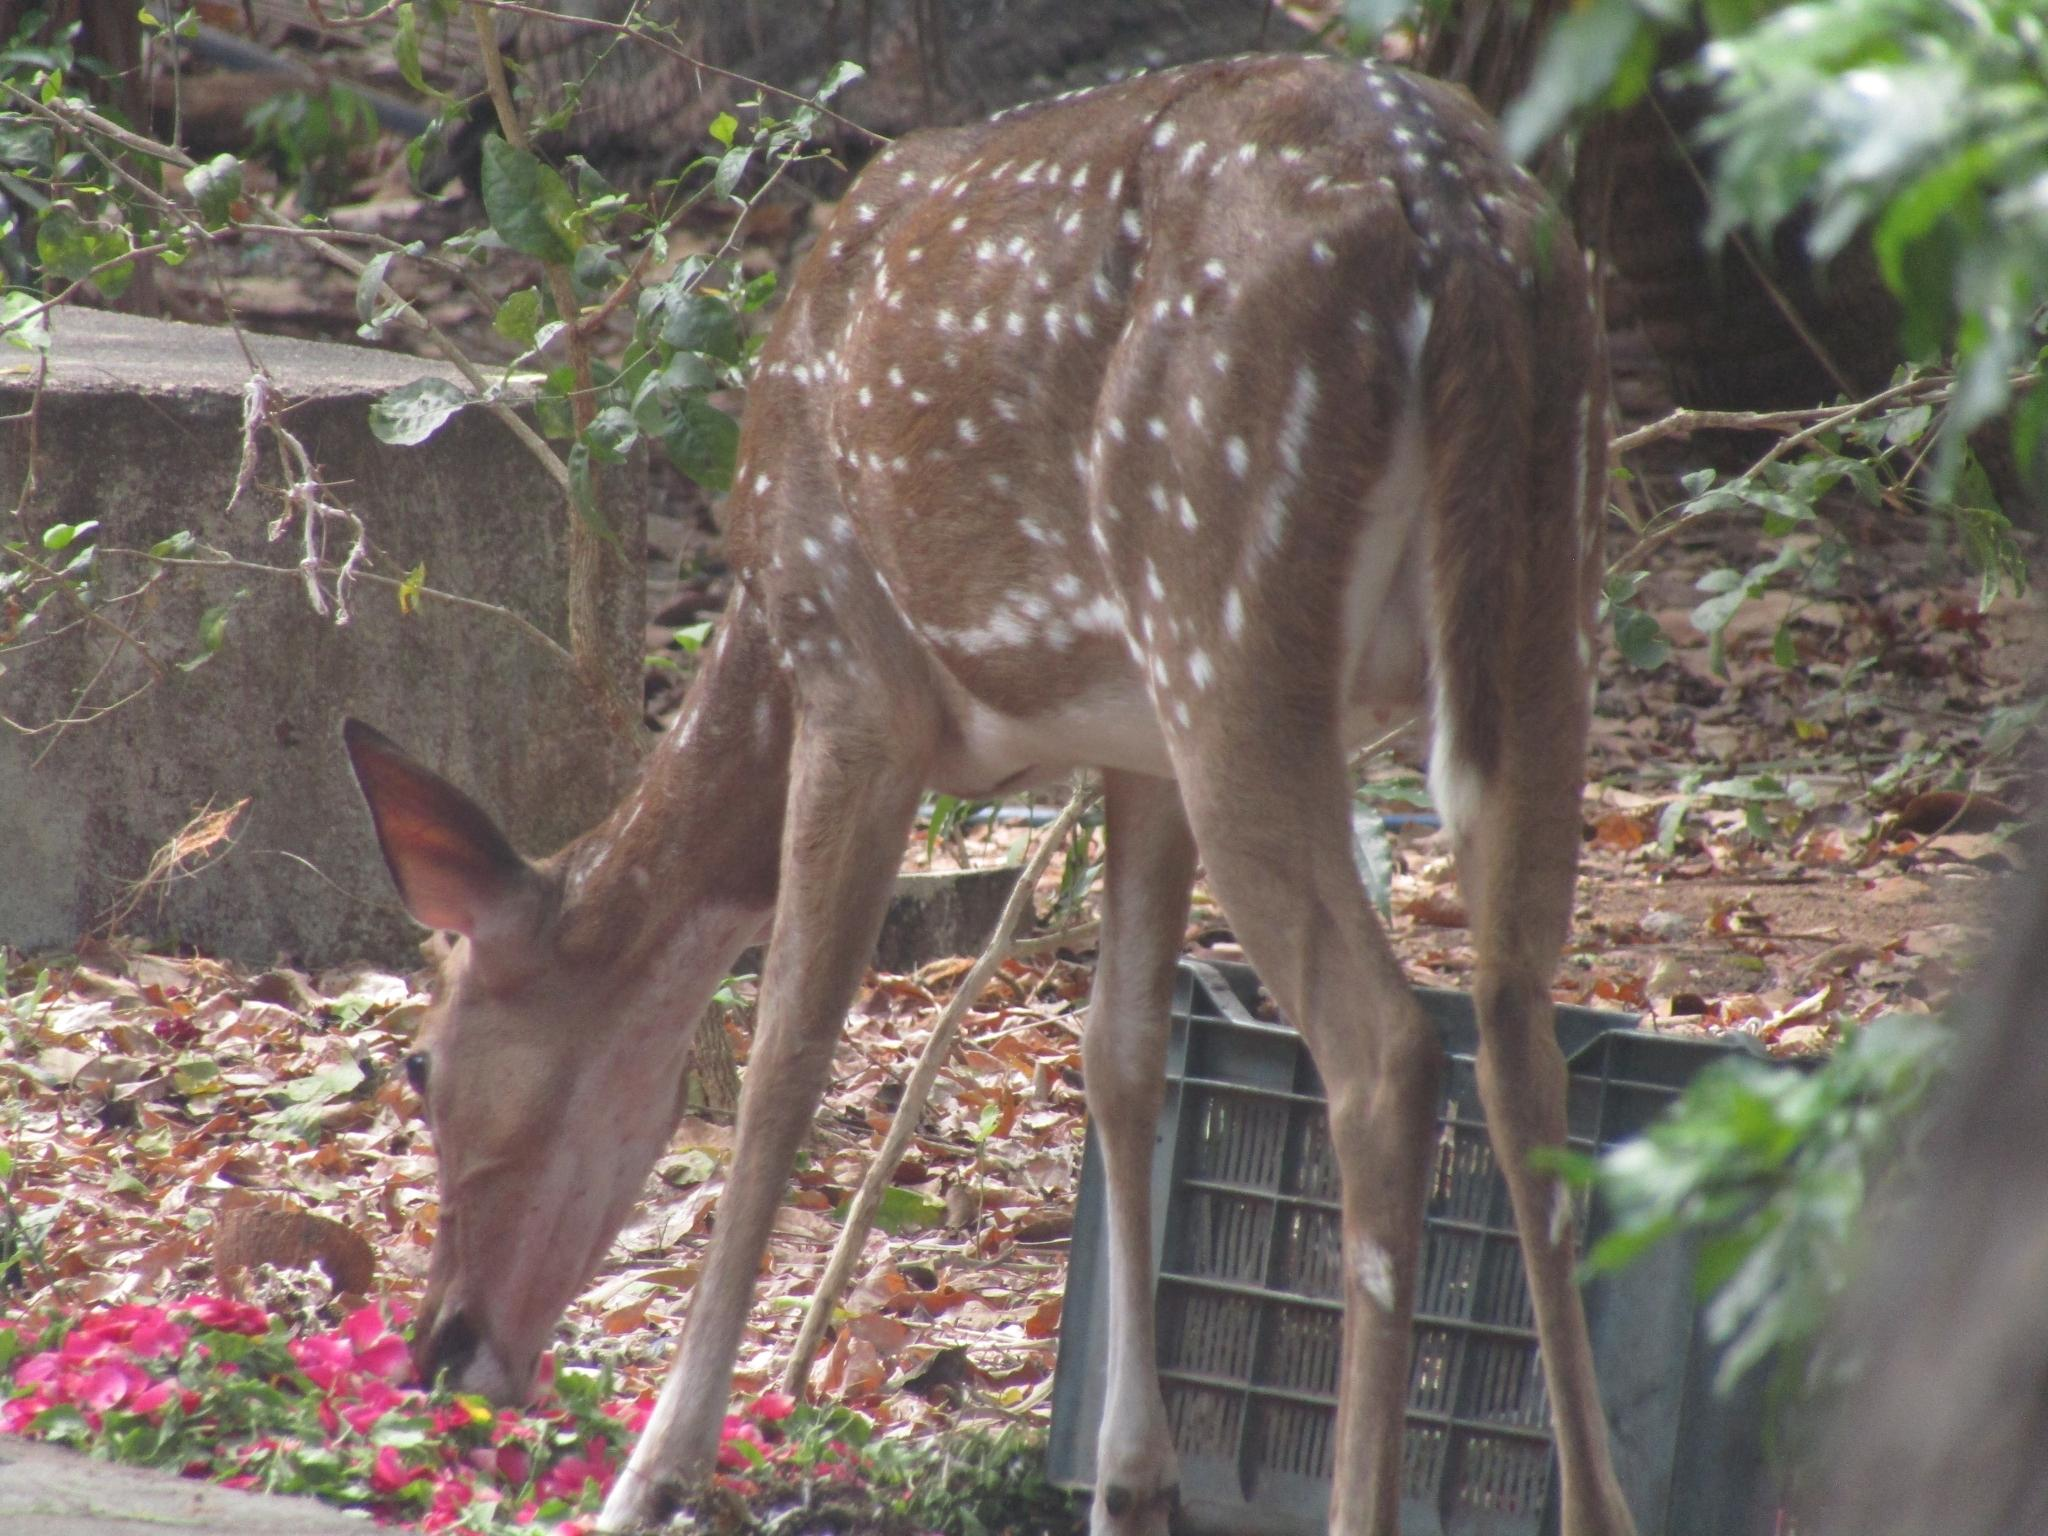Deer: (343, 55, 1634, 1533)
